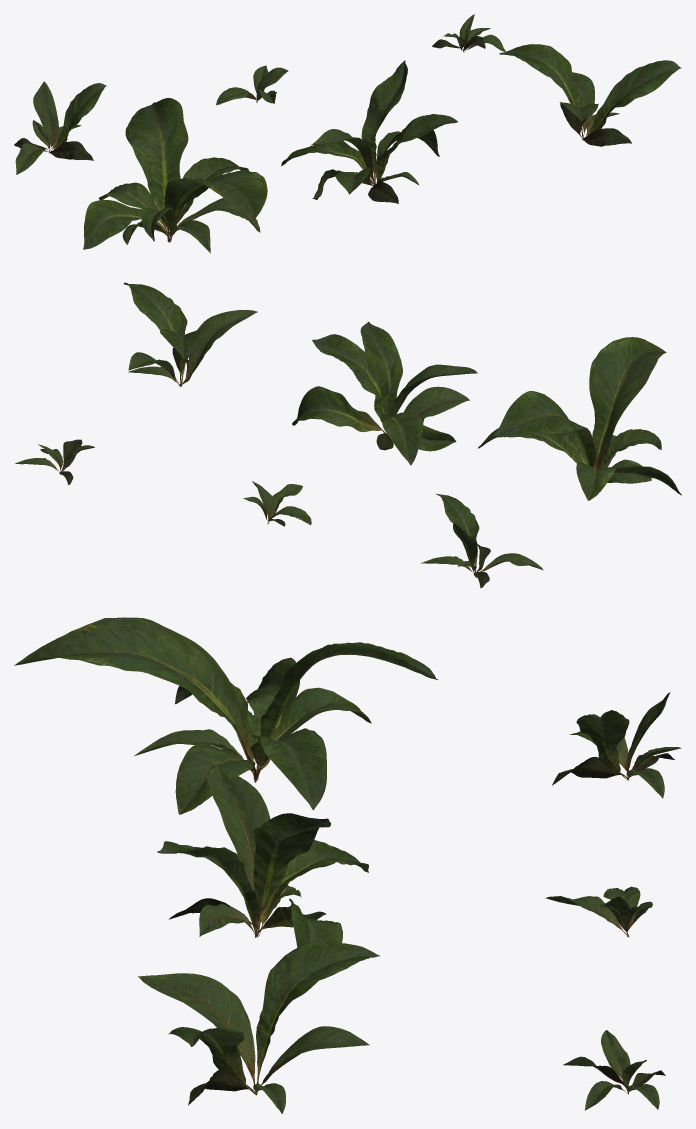
Rendered from anthurium_botany_01.glb.
The picture shows the model from 3 angles, top to bottom: view 1: azimuth 30°, elevation 25°; view 2: azimuth 150°, elevation 25°; view 3: azimuth 270°, elevation 25°; orthographic projection. The views are drawn at different scales.
Visible parts, largest first — view 1: anthurium_botany_01_a; view 2: anthurium_botany_01_a; view 3: anthurium_botany_01_a.
Boxes of the visible parts, bbox=[...] form: anthurium_botany_01_a: bbox=[14, 14, 681, 253]; anthurium_botany_01_a: bbox=[15, 282, 681, 588]; anthurium_botany_01_a: bbox=[14, 617, 681, 1113].
Bounding box in the file's own units: 2.8 × 0.4994 × 1.8.
Materials: 1 (1 with a texture image).
